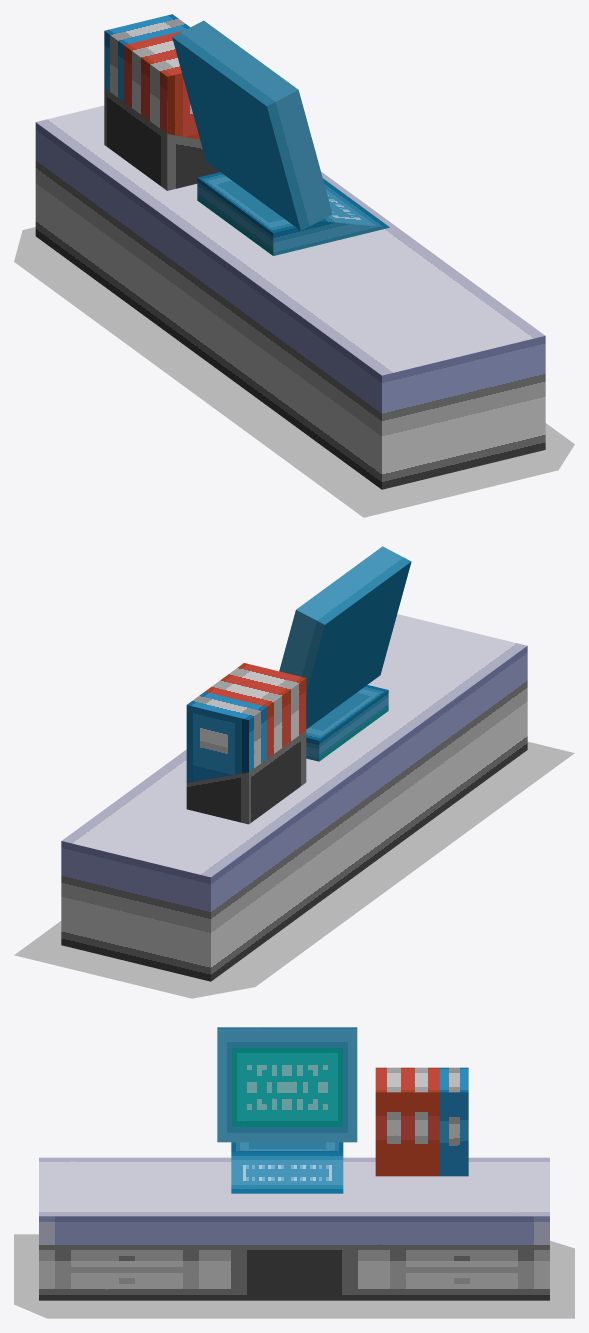
3 views of the same model, one above another, from view 1: azimuth 30°, elevation 25°; view 2: azimuth 150°, elevation 25°; view 3: azimuth 270°, elevation 25° (orthographic). The views are drawn at different scales.
Visible parts, largest first — view 1: polygon1, polygon2, polygon0, polygon3, polygon4; view 2: polygon1, polygon0, polygon2, polygon4, polygon3; view 3: polygon1, polygon2, polygon0, polygon3, polygon4.
Part boxes in pixels (left/top/right/bottom): polygon1: left=35, top=88, right=545, bottom=489; polygon2: left=172, top=20, right=389, bottom=255; polygon0: left=14, top=227, right=574, bottom=517; polygon3: left=124, top=30, right=199, bottom=139; polygon4: left=104, top=14, right=190, bottom=101; polygon1: left=61, top=614, right=527, bottom=981; polygon0: left=14, top=741, right=574, bottom=998; polygon2: left=279, top=546, right=411, bottom=761; polygon4: left=186, top=692, right=266, bottom=782; polygon3: left=205, top=663, right=306, bottom=758; polygon1: left=39, top=1157, right=549, bottom=1300; polygon2: left=217, top=1027, right=357, bottom=1193; polygon0: left=14, top=1234, right=574, bottom=1318; polygon3: left=375, top=1067, right=439, bottom=1176; polygon4: left=439, top=1067, right=468, bottom=1176.
Size of the model in its own units: 4.29 by 5.42 by 12.07.
